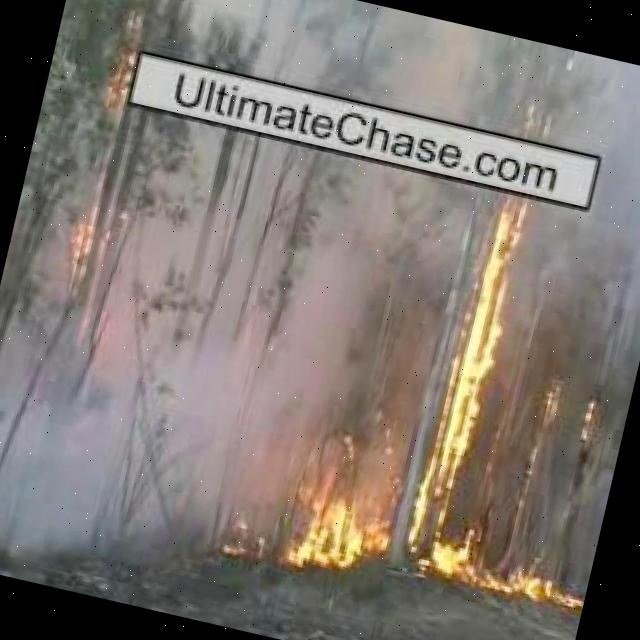fire: (292, 484, 596, 616), (421, 183, 535, 515), (86, 10, 158, 124), (516, 381, 568, 512), (52, 188, 110, 280), (570, 394, 602, 444)
